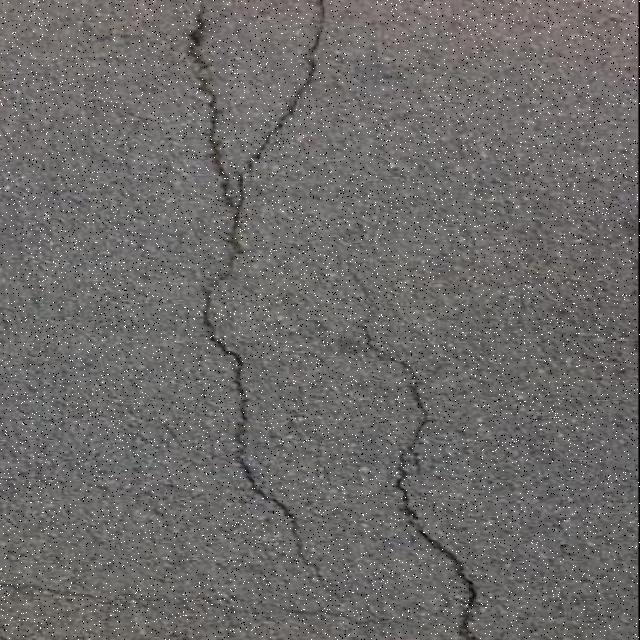Crack: (189, 2, 344, 601), (352, 269, 479, 640), (278, 606, 433, 631), (2, 585, 107, 601)
